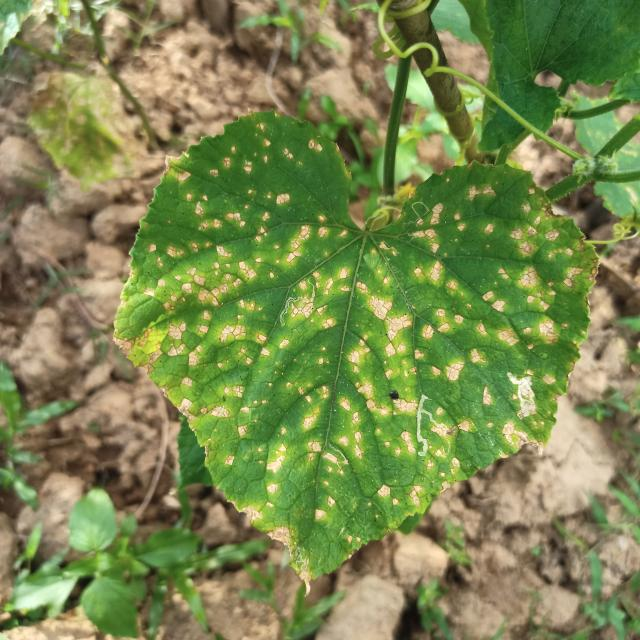disease_cucumber: (124, 136, 578, 547)
